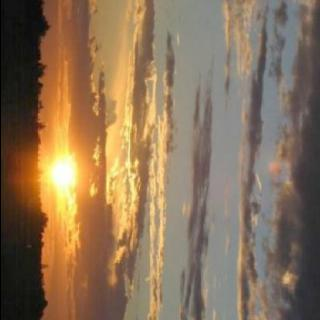Altocumulus: (56, 0, 320, 320)
